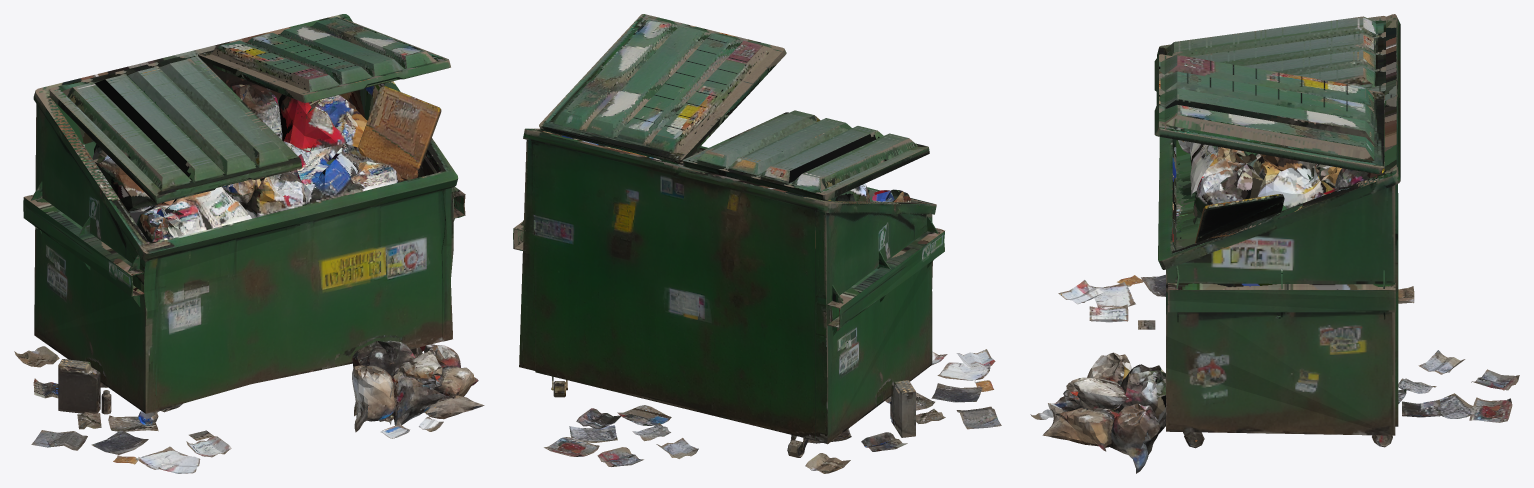
File: dumpster.glb
3 views of the same model, side by side, from view 1: azimuth 30°, elevation 25°; view 2: azimuth 150°, elevation 25°; view 3: azimuth 270°, elevation 25° (orthographic). The views are drawn at different scales.
Size of the model in its own units: 1.2 by 0.9271 by 1.17.
1 material, 1 textured.
